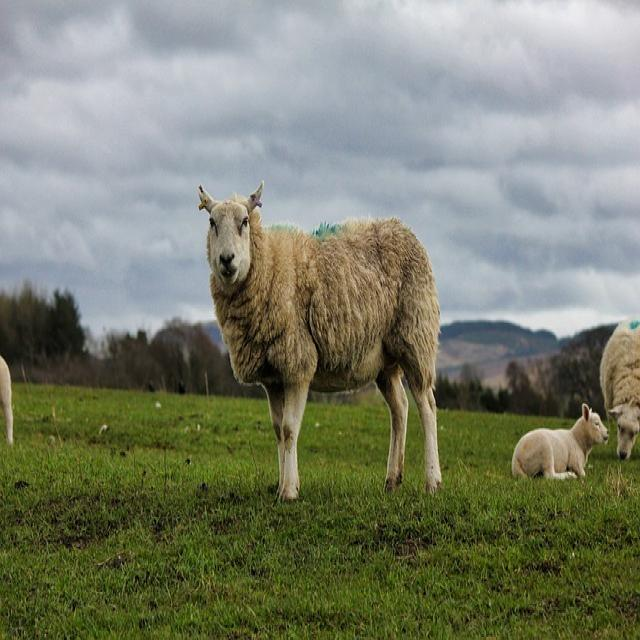sheep: (196, 179, 442, 503), (510, 402, 608, 480), (599, 318, 639, 459), (0, 354, 13, 444)
